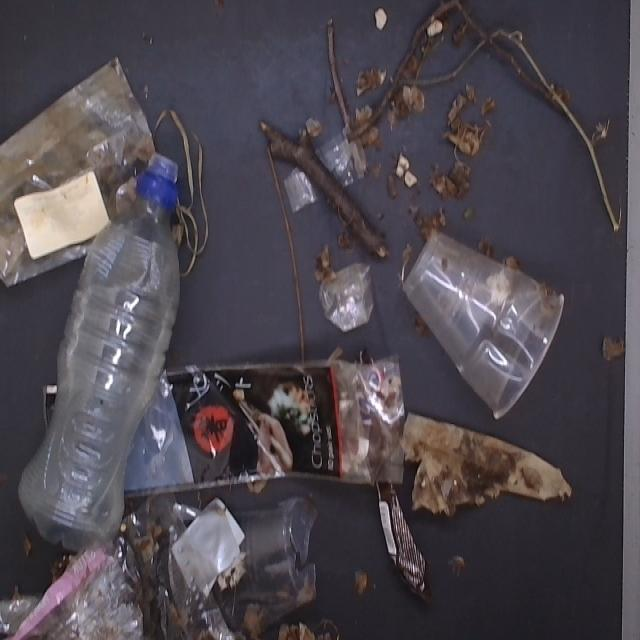food_wrapping: (31, 364, 412, 498), (373, 482, 448, 628)
pet_pottles: (53, 119, 178, 552)
plastic_cups: (399, 202, 572, 423), (185, 487, 331, 632)
plastic_films: (0, 68, 167, 303), (0, 530, 145, 640), (282, 116, 368, 220), (320, 262, 381, 335)
